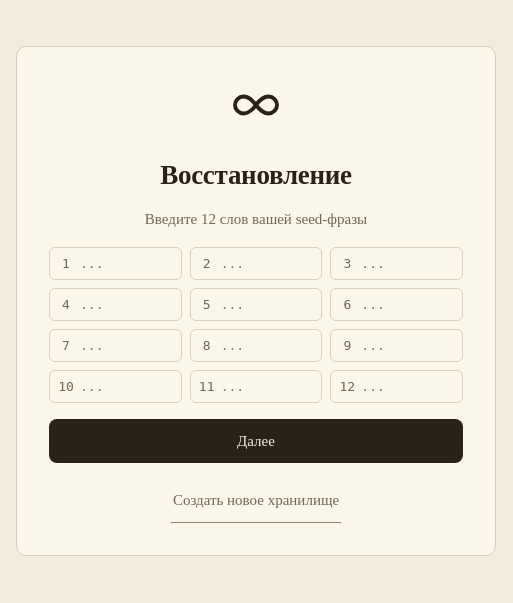
Test case: Restore — the PIN offer › an incomplete phrase is caught before the PIN step
The width and height of the screenshot is (513, 603).
Step 1. Type "alpha" into the field named "Слово 1 из 12" → (126,264), box [80, 252, 173, 275]
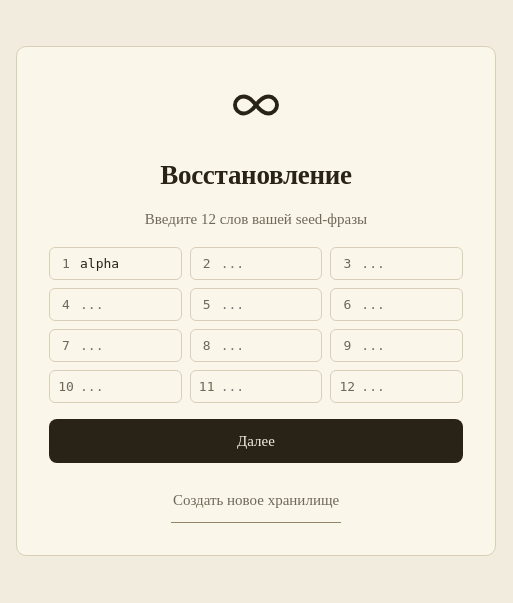
Step 2. Click the button "Далее" → (256,441), box [49, 419, 463, 463]
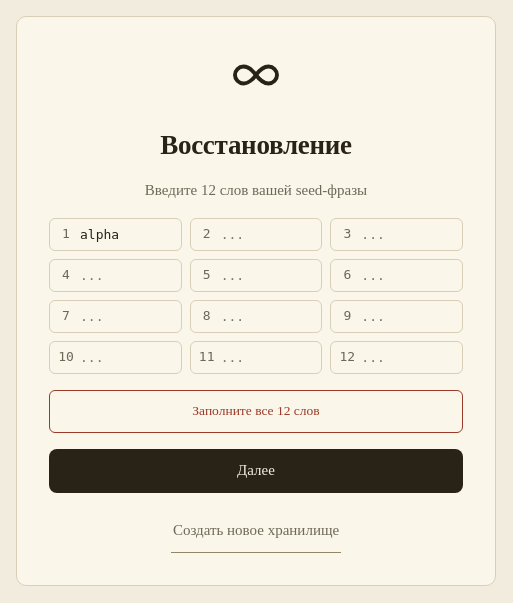
Now the text "Заполните все 12 слов" is shown, box [49, 390, 463, 433]
